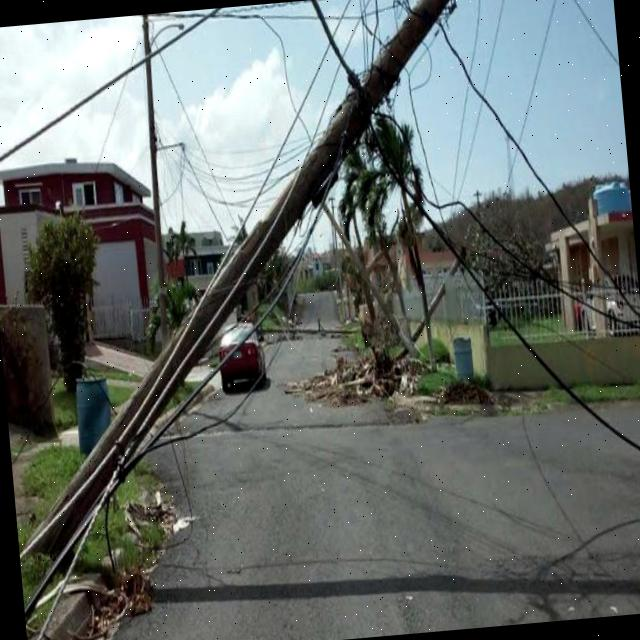Broken Pole: (28, 0, 452, 562)
